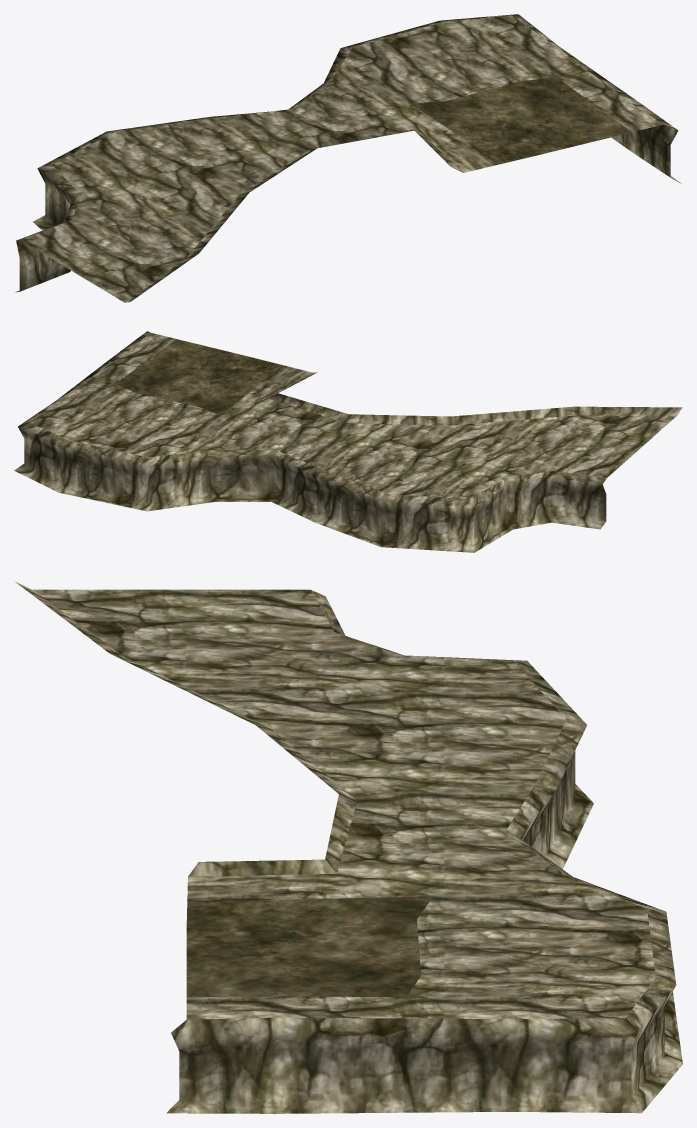
File: CB_NEWPLAYSURFACE_CB_PLAYSURFACE146.fbx
3 renders of one model, top to bottom at view 1: azimuth 30°, elevation 25°; view 2: azimuth 150°, elevation 25°; view 3: azimuth 270°, elevation 25°, orthographic. The views are drawn at different scales.
Parts seen in each view (by area): view 1: CB_NEWPLAYSURFACE_CB_PLAYSURFACE146; view 2: CB_NEWPLAYSURFACE_CB_PLAYSURFACE146; view 3: CB_NEWPLAYSURFACE_CB_PLAYSURFACE146.
Part boxes in pixels (left/top/right/bottom): CB_NEWPLAYSURFACE_CB_PLAYSURFACE146: left=15, top=14, right=681, bottom=302; CB_NEWPLAYSURFACE_CB_PLAYSURFACE146: left=14, top=331, right=682, bottom=552; CB_NEWPLAYSURFACE_CB_PLAYSURFACE146: left=15, top=581, right=682, bottom=1113.
Size of the model in its own units: 333037 by 35286 by 214391.
3 materials, 3 textured.
